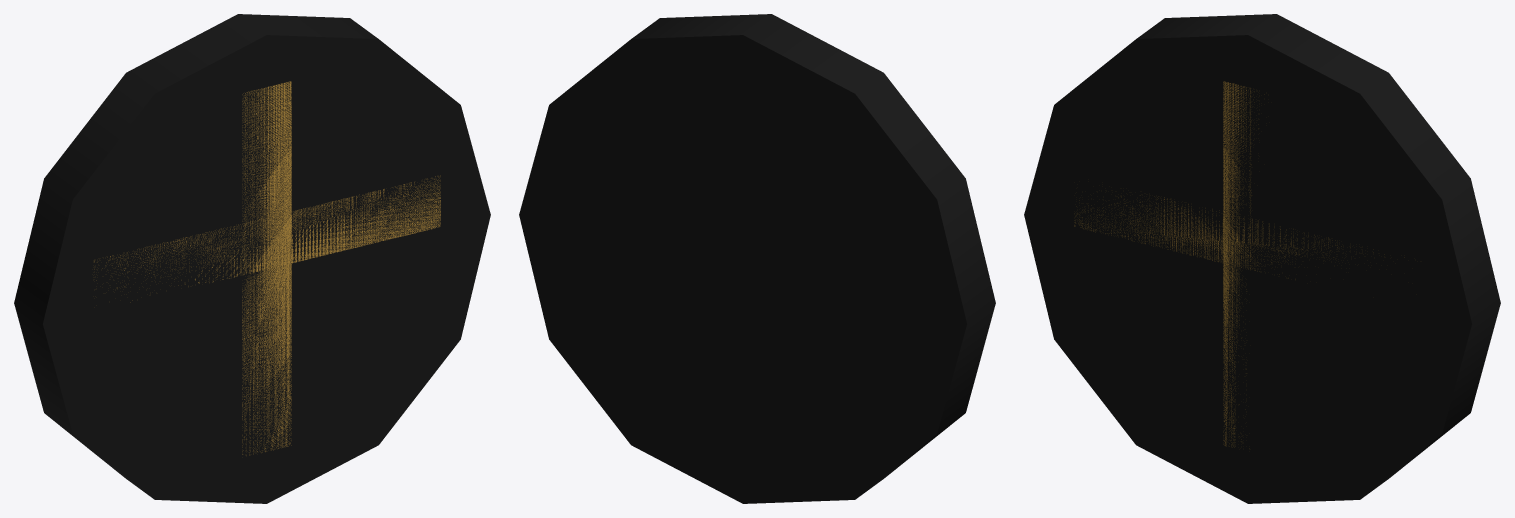
File: letrero-cuartel.glb
3 renders of one model, left to right at view 1: azimuth 30°, elevation 25°; view 2: azimuth 150°, elevation 25°; view 3: azimuth 330°, elevation 25°, orthographic.
Parts seen in each view (by area): view 1: letrero-cuartel; view 2: letrero-cuartel; view 3: letrero-cuartel.
Boxes of the visible parts, x1=… form: letrero-cuartel: x1=14, y1=14, x2=490, y2=503; letrero-cuartel: x1=519, y1=14, x2=995, y2=503; letrero-cuartel: x1=1024, y1=14, x2=1500, y2=503.
Bounding box in the file's own units: 0.36 × 0.36 × 0.04.
